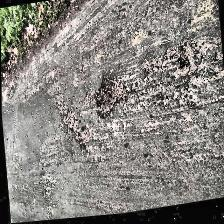pothole: (87, 72, 133, 126)
